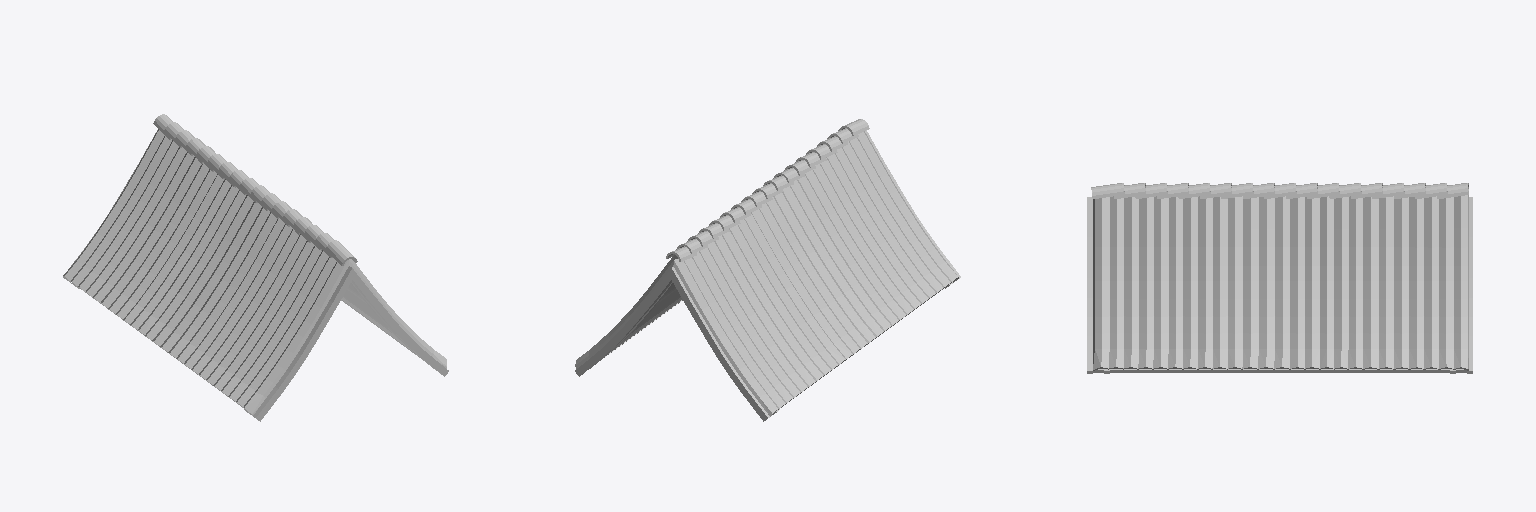
The model's file is Roof_RoundTiles_6x12.obj.
The picture shows the model from 3 angles: view 1: azimuth 30°, elevation 25°; view 2: azimuth 150°, elevation 25°; view 3: azimuth 270°, elevation 25°; orthographic projection.
Visible parts, largest first — view 1: Roof_RoundTiles_6x12; view 2: Roof_RoundTiles_6x12; view 3: Roof_RoundTiles_6x12.
Boxes of the visible parts, x1=… form: Roof_RoundTiles_6x12: x1=63, y1=114, x2=448, y2=421; Roof_RoundTiles_6x12: x1=575, y1=119, x2=960, y2=421; Roof_RoundTiles_6x12: x1=1087, y1=183, x2=1472, y2=373.
Bounding box in the file's own units: 8.25 × 5.67 × 13.66.